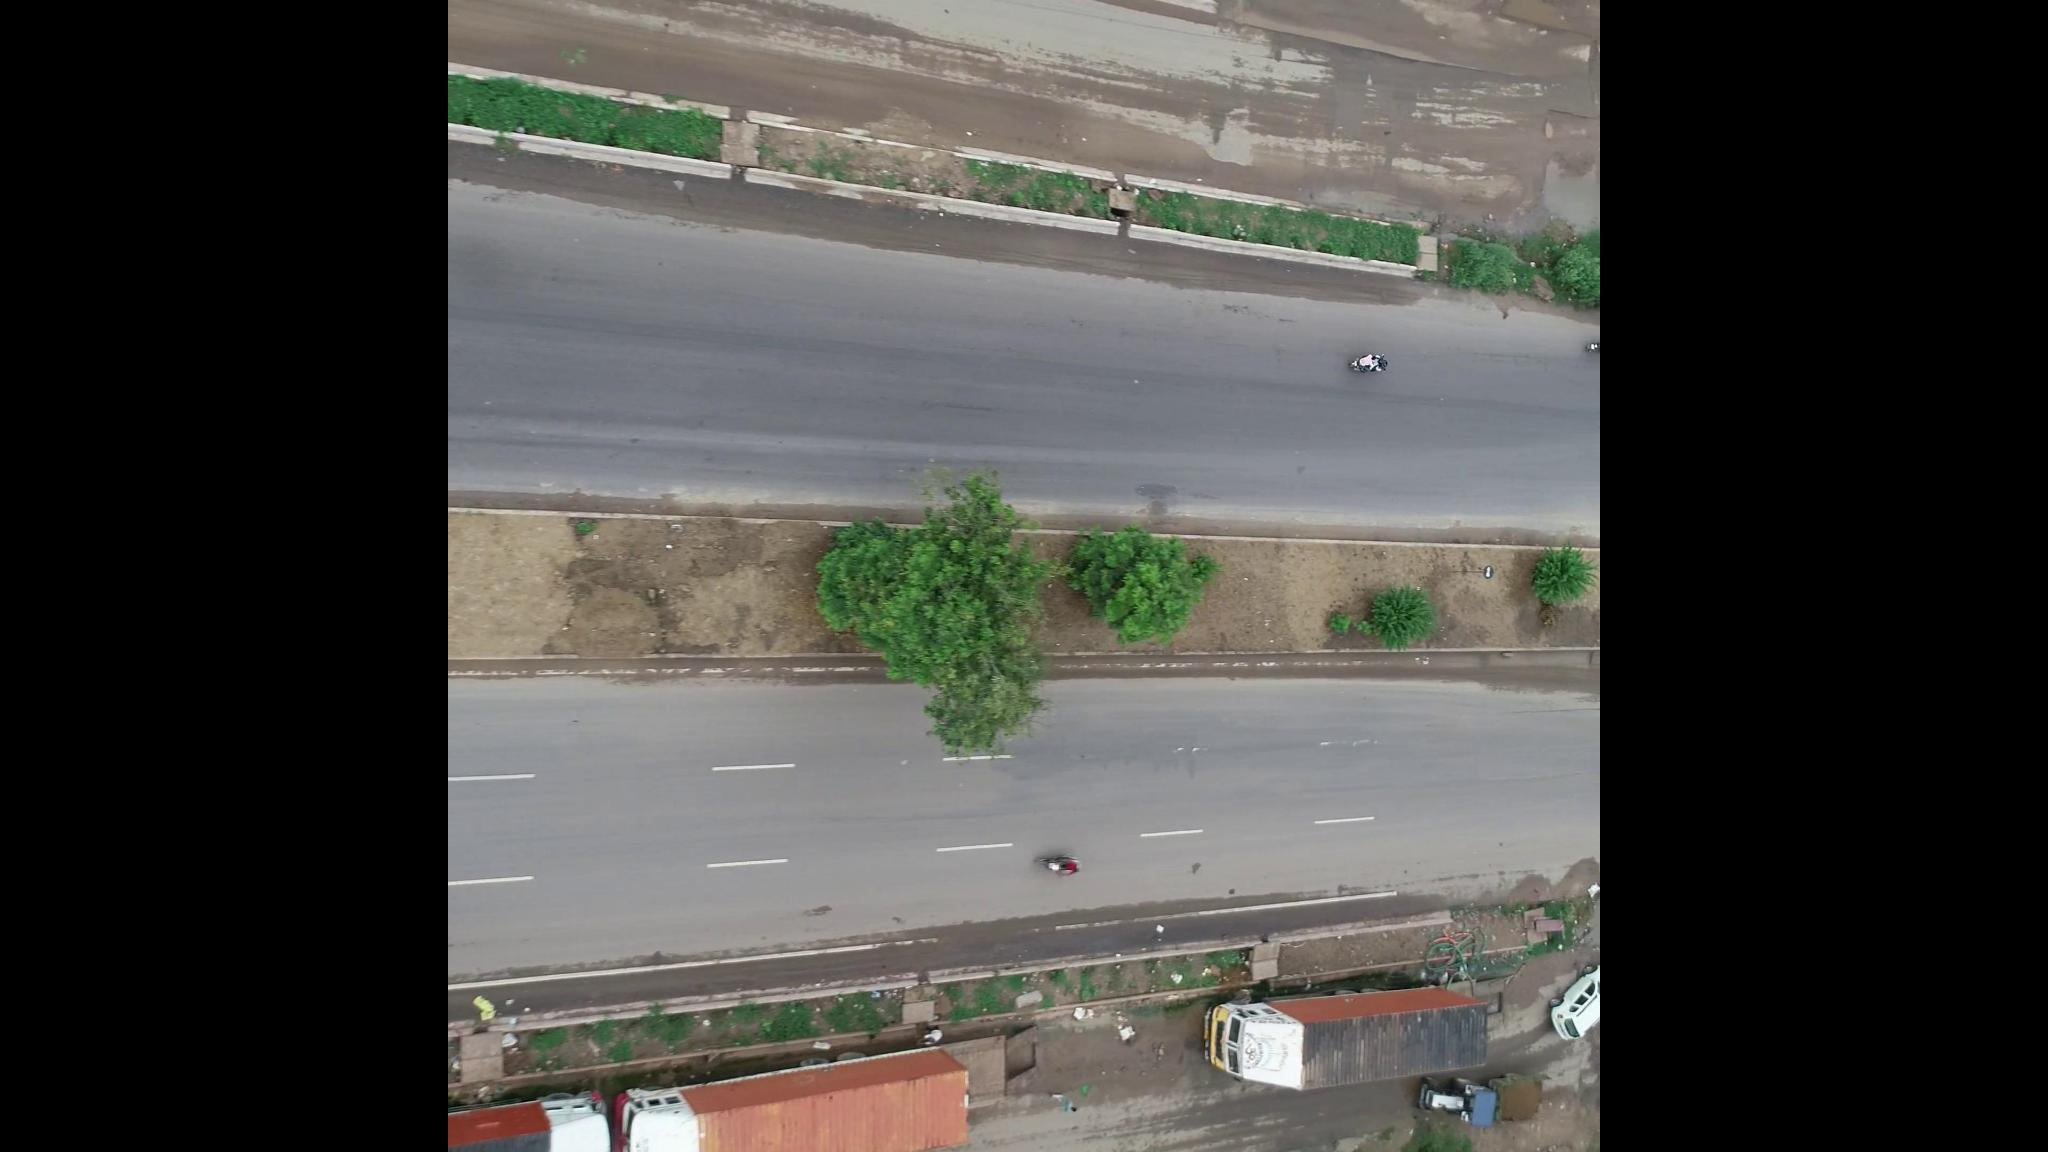Muddy_road: (1266, 51, 1536, 215), (494, 1, 812, 103)
